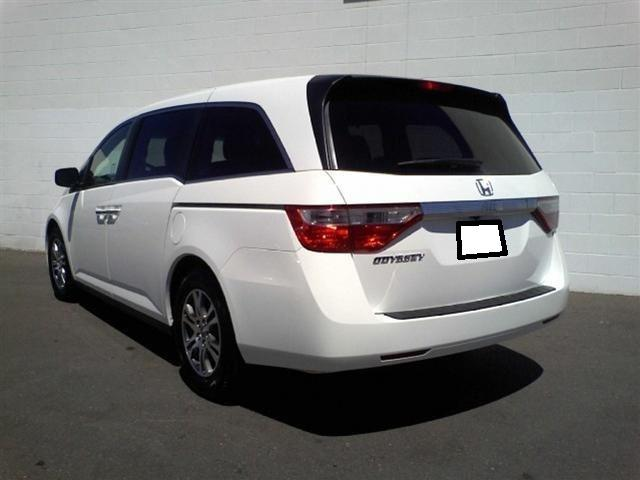Car: (18, 66, 600, 433)
